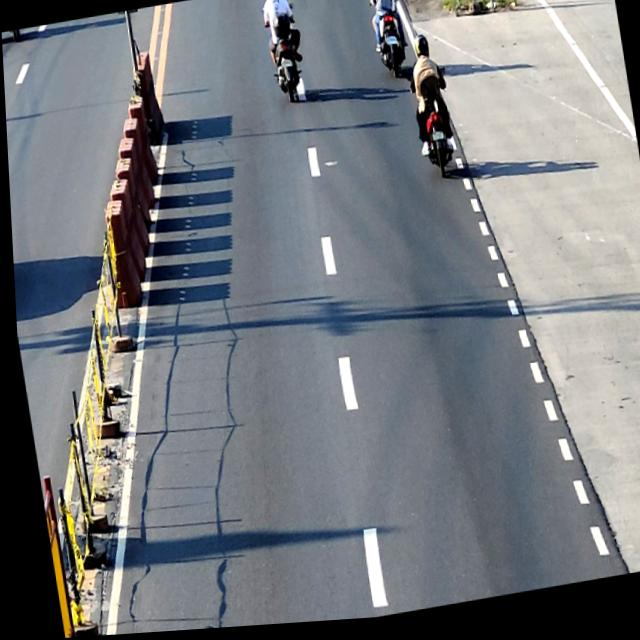License-Plate: (279, 60, 292, 71), (429, 136, 442, 147), (384, 40, 396, 51)
Motorcycle: (406, 68, 459, 188), (261, 3, 307, 104), (363, 0, 411, 87)
